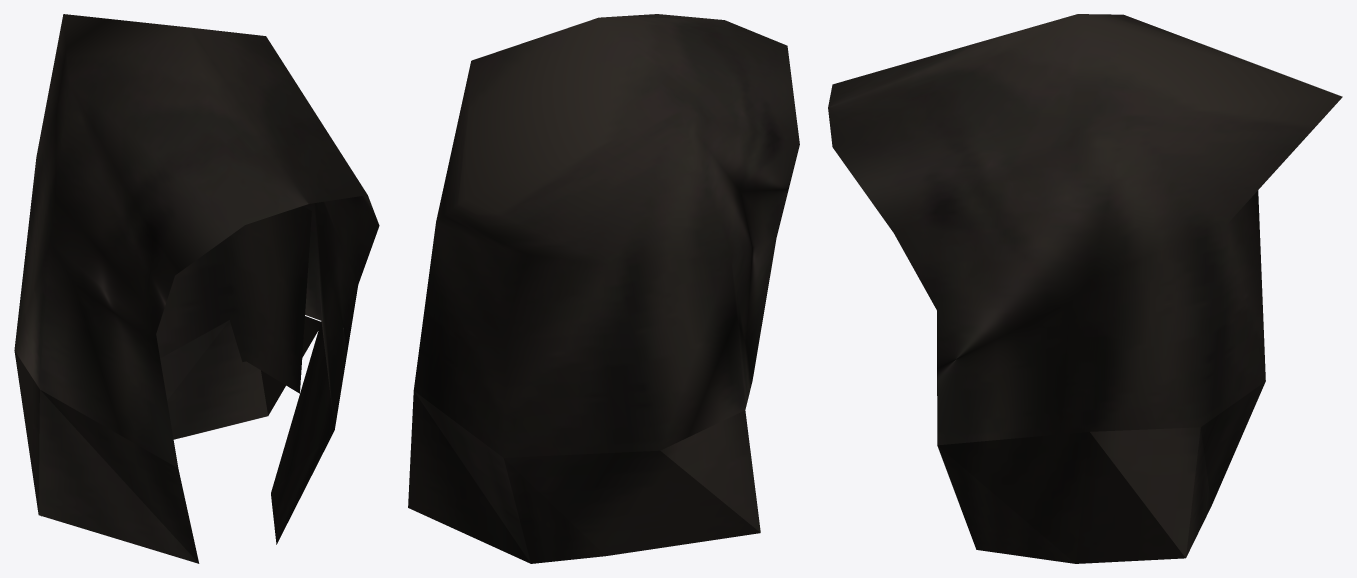
Rendered from hood_dark.glb.
3 views of the same model, side by side, from view 1: azimuth 30°, elevation 25°; view 2: azimuth 150°, elevation 25°; view 3: azimuth 270°, elevation 25° (orthographic). The views are drawn at different scales.
Visible parts, largest first — view 1: Hood; view 2: Hood; view 3: Hood.
Boxes of the visible parts, bbox=[...] form: Hood: bbox=[14, 14, 379, 563]; Hood: bbox=[408, 14, 799, 563]; Hood: bbox=[828, 14, 1342, 563].
Size of the model in its own units: 0.2514 by 0.4081 by 0.369.
1 material, 1 textured.
